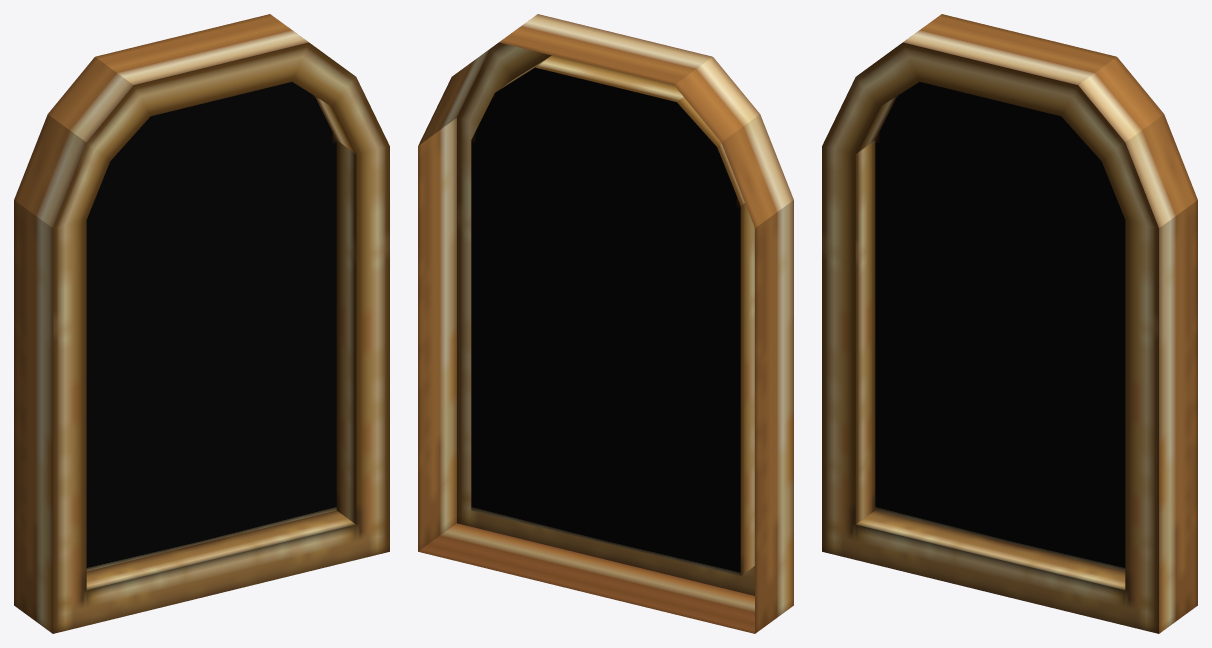
The model's file is Poly_Window_11.obj.
3 views of the same model, side by side, from view 1: azimuth 30°, elevation 25°; view 2: azimuth 150°, elevation 25°; view 3: azimuth 330°, elevation 25° (orthographic).
Parts seen in each view (by area): view 1: Cube_Cube.003; view 2: Cube_Cube.003; view 3: Cube_Cube.003.
Boxes of the visible parts, left/top/right/bottom form: Cube_Cube.003: left=14, top=14, right=389, bottom=633; Cube_Cube.003: left=418, top=14, right=793, bottom=633; Cube_Cube.003: left=822, top=14, right=1197, bottom=633.
Size of the model in its own units: 1 by 1.5 by 0.2.
Materials: 1 (1 with a texture image).
